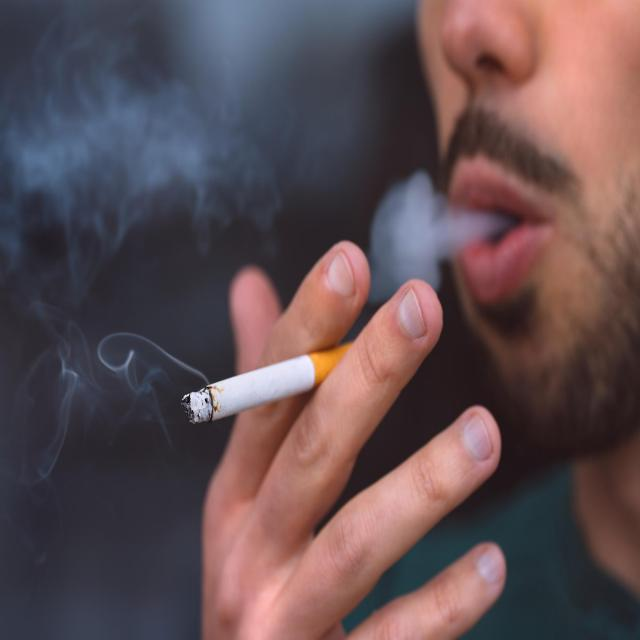cigarette: (180, 339, 356, 425)
